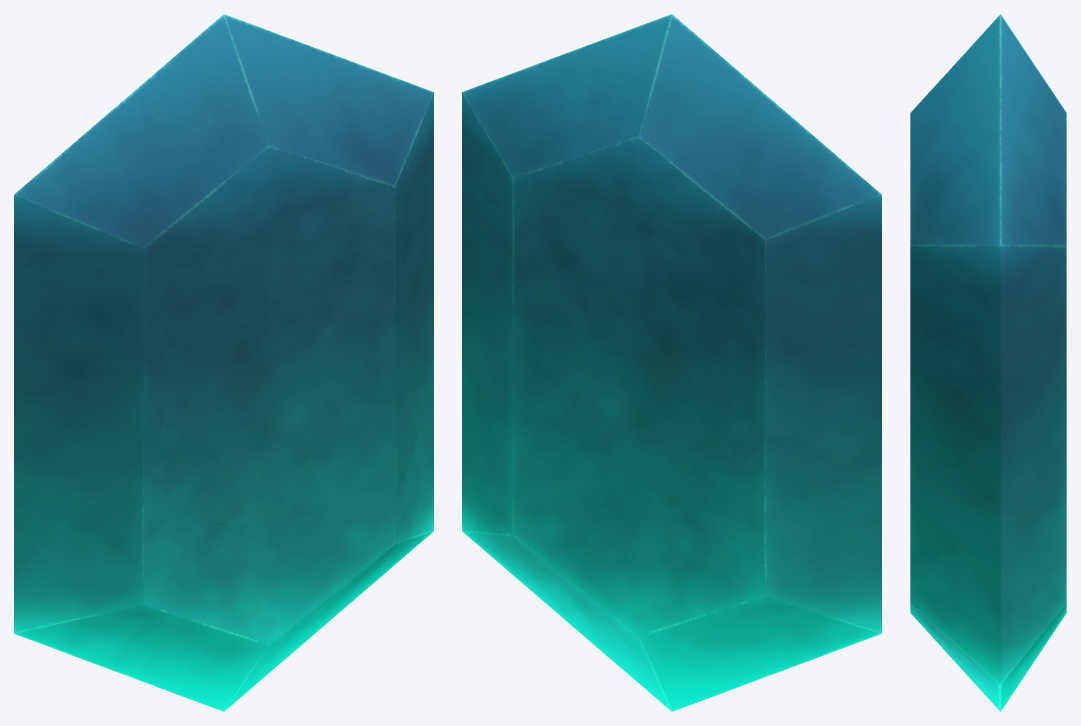
File: teal_gem.glb
The picture shows the model from 3 angles, left to right: view 1: azimuth 30°, elevation 25°; view 2: azimuth 150°, elevation 25°; view 3: azimuth 270°, elevation 25°; orthographic projection.
Visible parts, largest first — view 1: gem2_0; view 2: gem2_0; view 3: gem2_0.
Boxes of the visible parts, <box> form: gem2_0: <box>14,14,433,711</box>; gem2_0: <box>462,14,881,711</box>; gem2_0: <box>910,14,1066,711</box>.
Size of the model in its own units: 4.16 by 6.6 by 1.34.
Materials: 1 (1 with a texture image).
